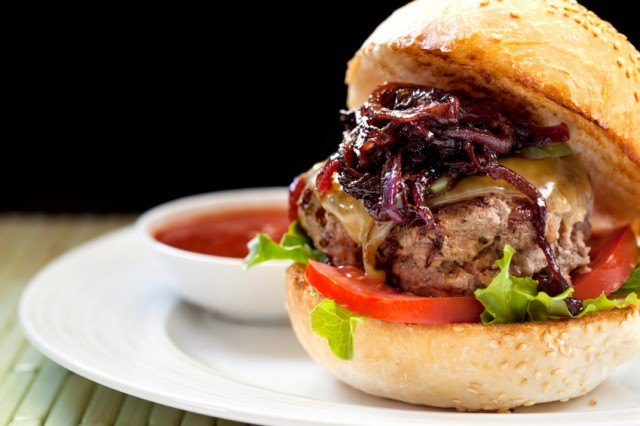hamburger: (274, 9, 640, 417)
